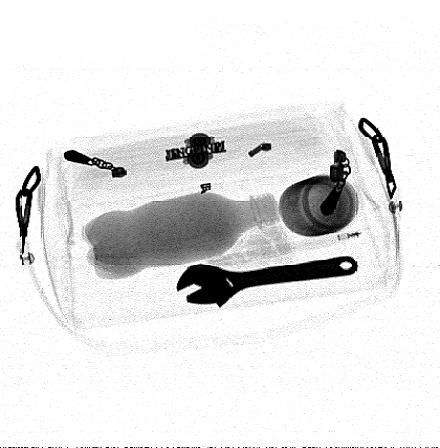Wrench: (175, 255, 358, 307)
